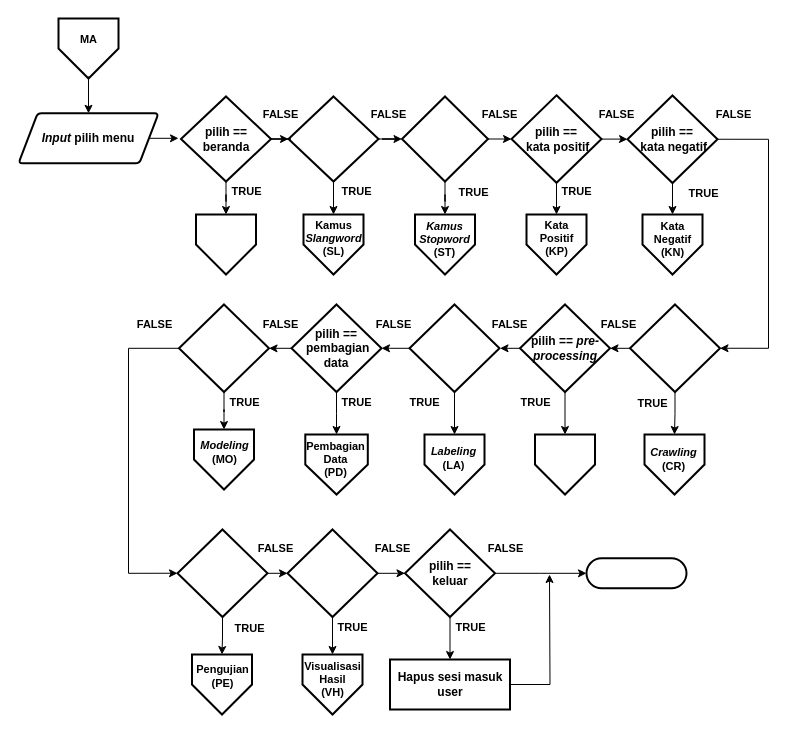
Some shapes in this 794 by 732 pixel diagram are drawn without their labels. The shapes that lost their labels are listed below. From the top down, each one's centre as x and y in pixels, then its label:
At (333,138): "pilih == slangword".
At (444,138): "pilih == stopword".
At (225,244): "Beranda (BE)".
At (224,347): "pilih == modeling".
At (454,347): "pilih == labeling".
At (674,347): "pilih == crawling".
At (565,464): "Pre- processing (PR)".
At (222,573): "pilih == pengujian".
At (332,573): "pilih == visualisasi hasil".
At (636,573): "END".
